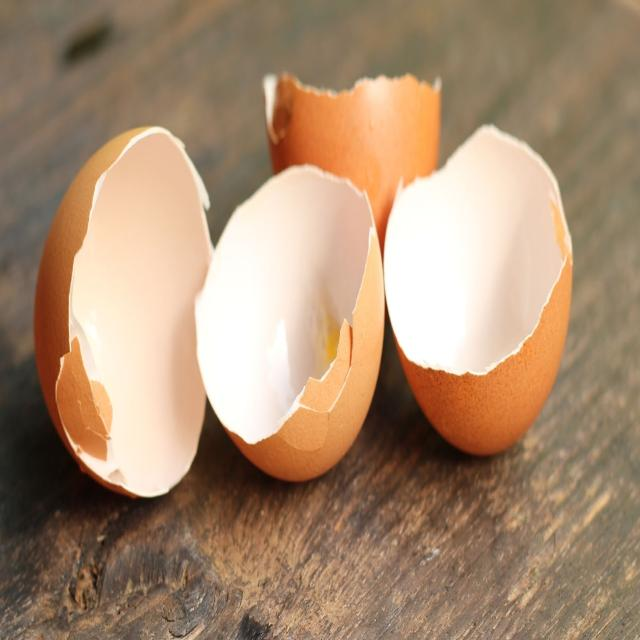organic: (31, 126, 214, 496), (382, 122, 574, 456), (192, 160, 380, 482), (265, 70, 439, 260)
